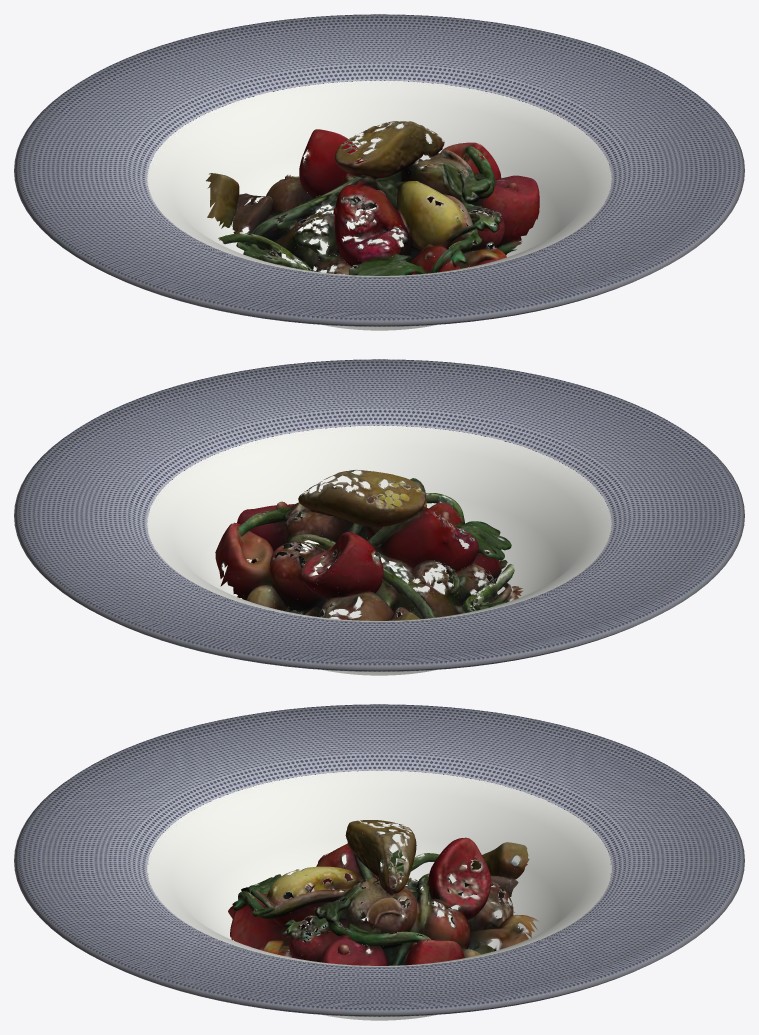
Rendered from salat_nozi.glb.
3 views of the same model, one above another, from view 1: azimuth 30°, elevation 25°; view 2: azimuth 150°, elevation 25°; view 3: azimuth 270°, elevation 25° (orthographic).
Visible parts, largest first — view 1: plate, tripo_node_1d98b698-223c-4014-a977-0ba58e129876; view 2: plate, tripo_node_1d98b698-223c-4014-a977-0ba58e129876; view 3: plate, tripo_node_1d98b698-223c-4014-a977-0ba58e129876.
Boxes of the visible parts, box(x1,y1,x2,y2) form: plate: box(14, 14, 744, 330); tripo_node_1d98b698-223c-4014-a977-0ba58e129876: box(206, 121, 539, 275); plate: box(14, 359, 744, 675); tripo_node_1d98b698-223c-4014-a977-0ba58e129876: box(215, 470, 523, 620); plate: box(14, 704, 744, 1020); tripo_node_1d98b698-223c-4014-a977-0ba58e129876: box(228, 820, 538, 965).
Bounding box in the file's own units: 0.95 × 0.2193 × 0.95.
Materials: 2 (2 with a texture image).
